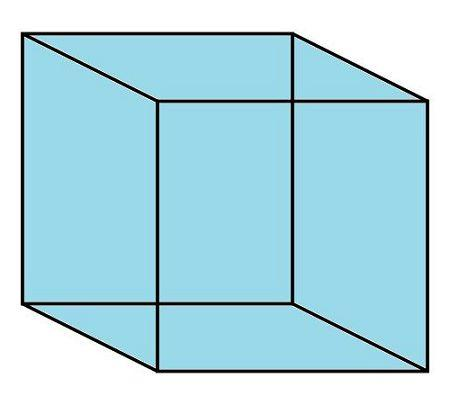cubos: (13, 16, 441, 386)
